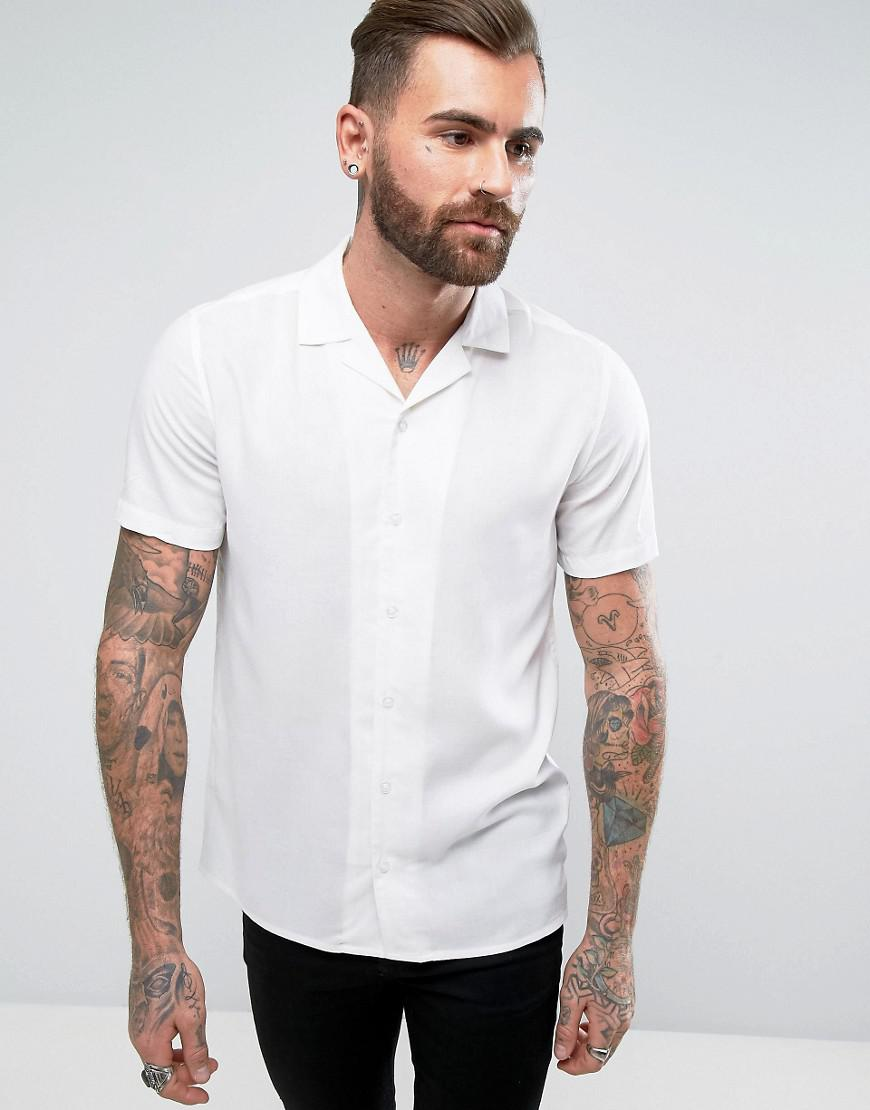teeshirt: (96, 264, 671, 961)
